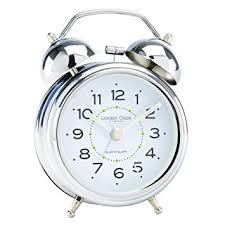alarm_clock: (38, 52, 203, 201)
